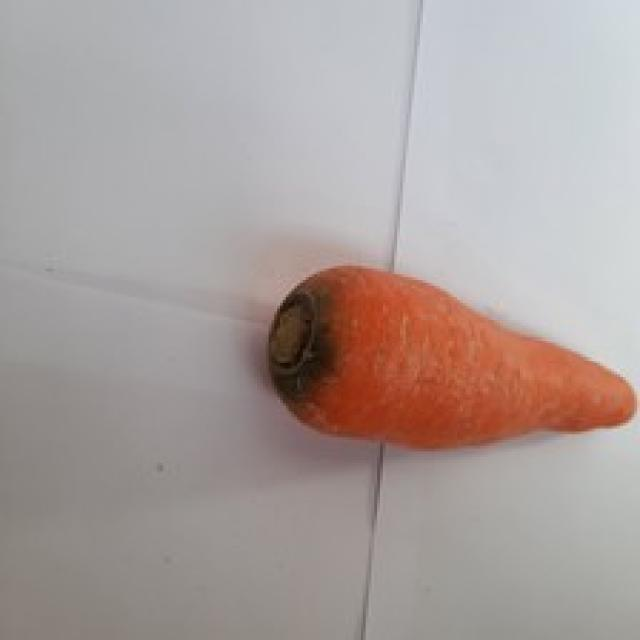Fresh_Carrot: (360, 249, 639, 476)
